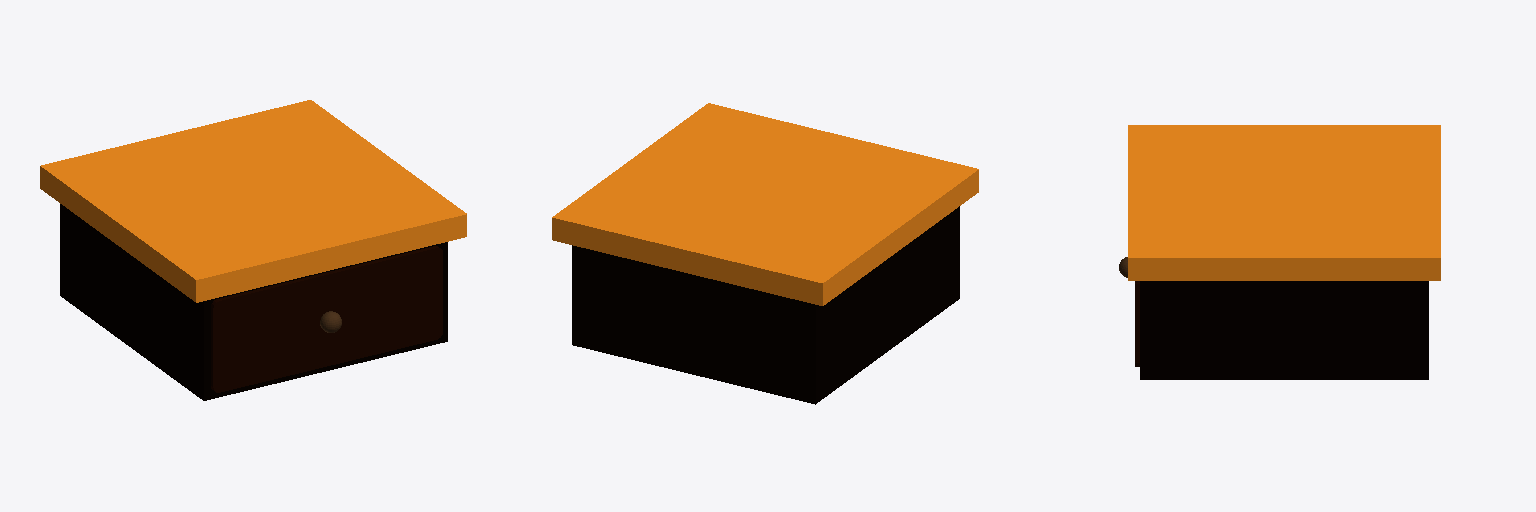
The model's file is mesaSin.obj.
The picture shows the model from 3 angles: view 1: azimuth 30°, elevation 25°; view 2: azimuth 150°, elevation 25°; view 3: azimuth 270°, elevation 25°; orthographic projection.
Parts seen in each view (by area): view 1: Cube.003; view 2: Cube.003; view 3: Cube.003.
Boxes of the visible parts, x1=… form: Cube.003: x1=40, y1=100, x2=466, y2=400; Cube.003: x1=552, y1=103, x2=978, y2=404; Cube.003: x1=1119, y1=125, x2=1440, y2=379.
Size of the model in its own units: 2 by 0.9085 by 2.06.